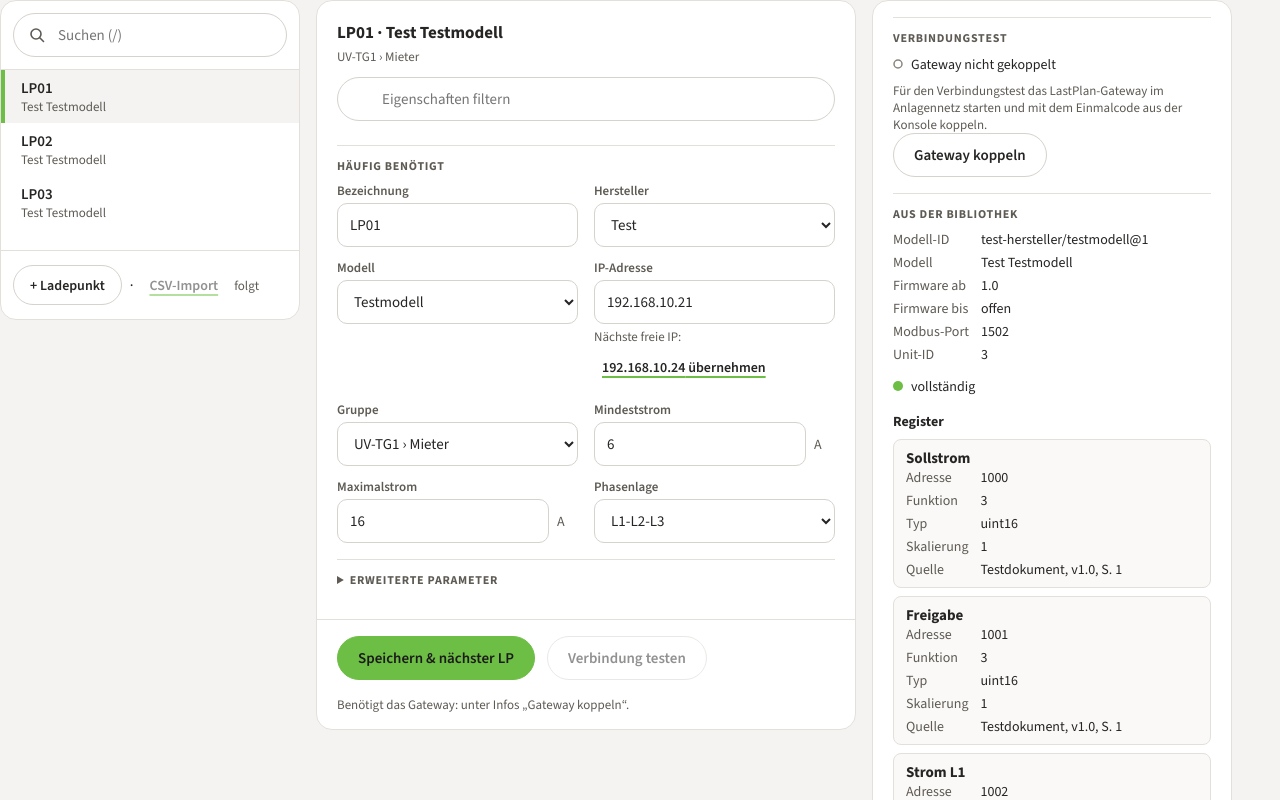
Test: Ladepunkte-Ansicht › Suche filtert die Liste
Type "LP03" into the search field named "Ladepunkte durchsuchen" at (150, 35), box [13,13,287,57]
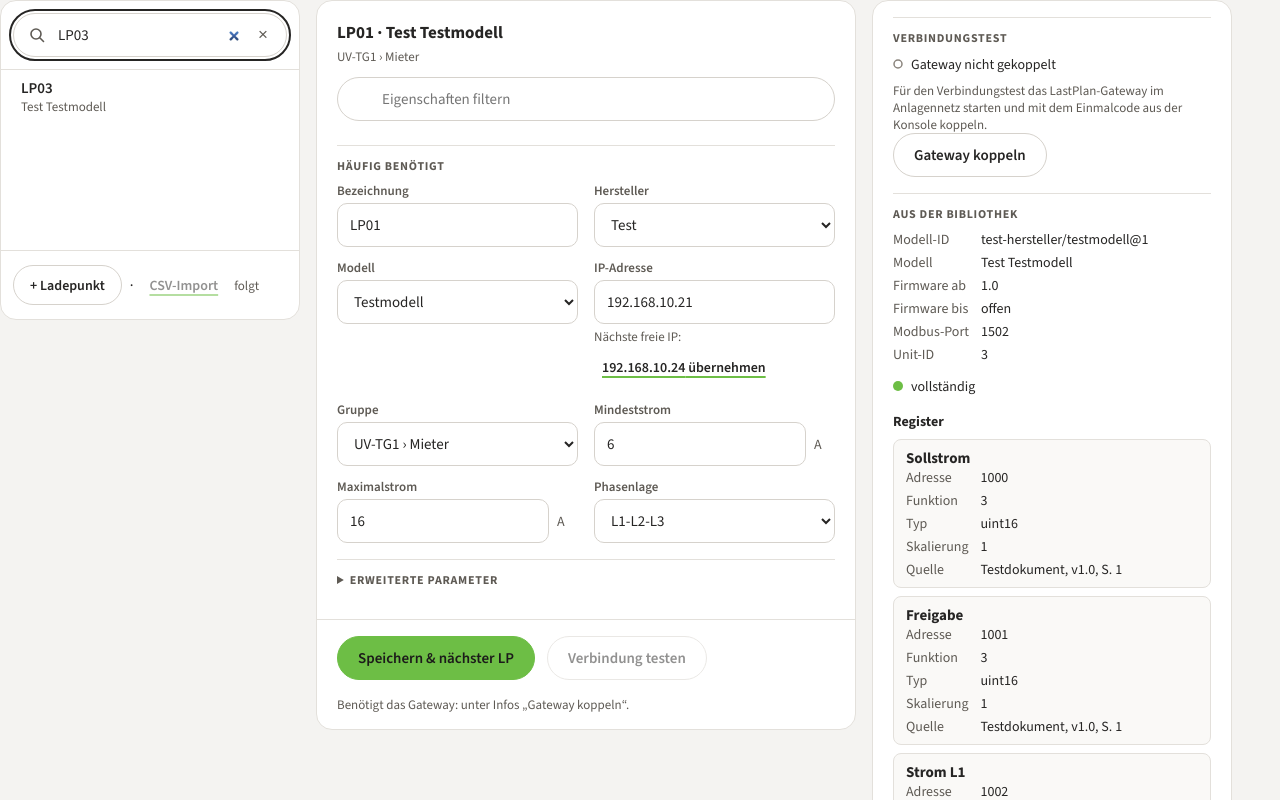
expect the number of options is 1: met, box [21,78,106,115]
